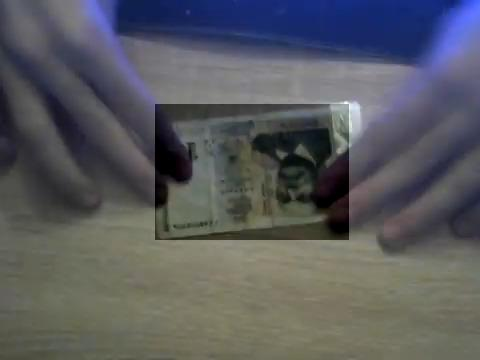10leva: (155, 104, 349, 240)
